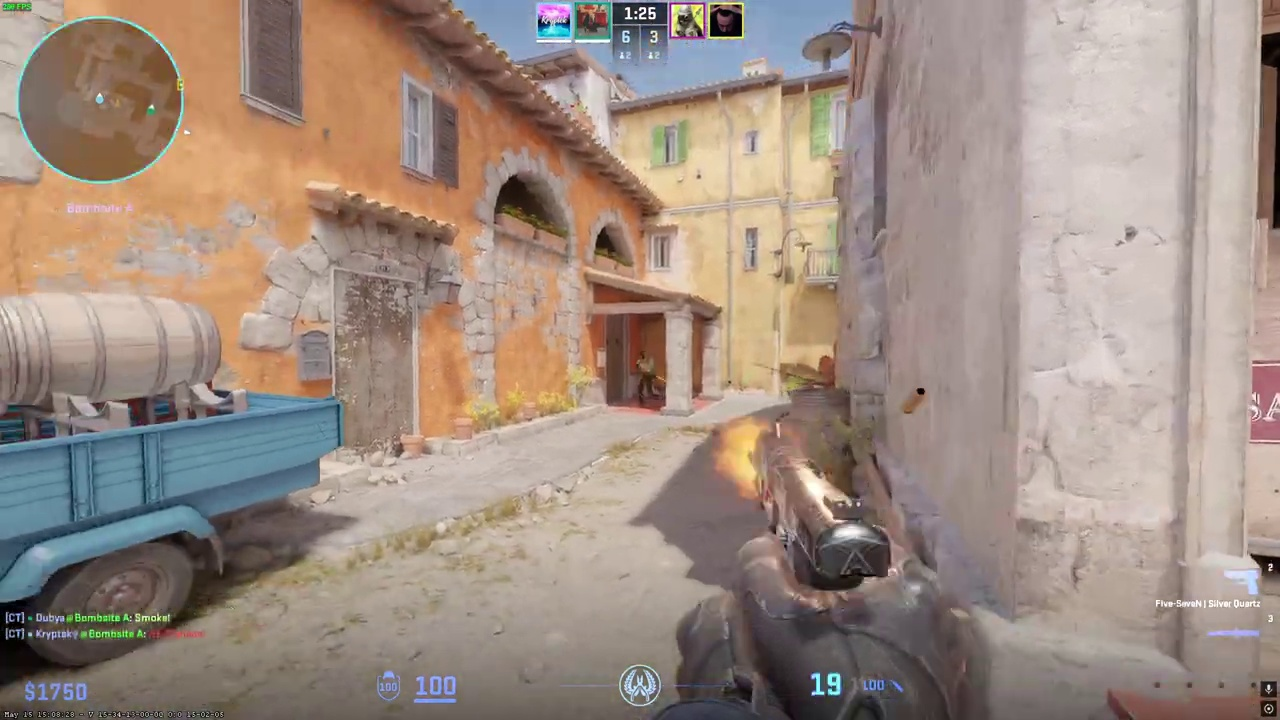Terrorist: (636, 351, 656, 404)
